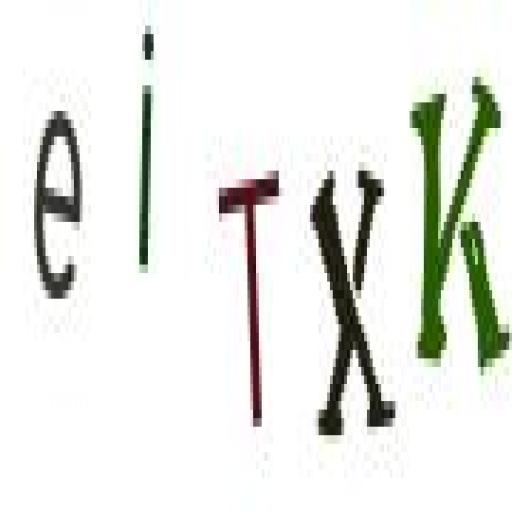K: (406, 66, 511, 391)
T: (214, 155, 287, 445)
X: (305, 149, 400, 465)
e: (28, 83, 88, 312)
i: (133, 8, 158, 280)
